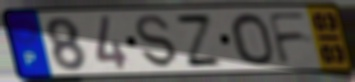4: (93, 12, 130, 73)
8: (45, 15, 91, 73)
F: (265, 10, 311, 67)
O: (228, 12, 277, 68)
S: (134, 14, 181, 70)
Z: (172, 13, 226, 68)
